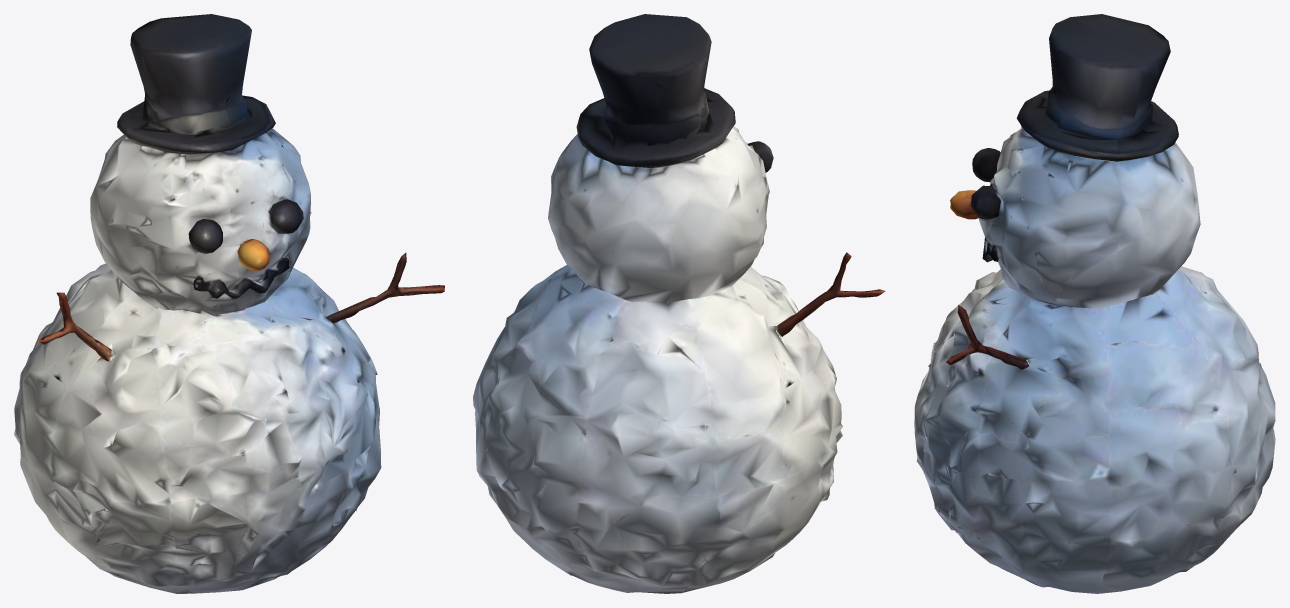
Rendered from snowman_far.glb.
3 renders of one model, left to right at view 1: azimuth 30°, elevation 25°; view 2: azimuth 150°, elevation 25°; view 3: azimuth 270°, elevation 25°, orthographic.
Parts seen in each view (by area): view 1: tripo_part_0, tripo_part_1, tripo_part_2, tripo_part_3, tripo_part_5, tripo_part_4, tripo_part_6; view 2: tripo_part_0, tripo_part_1, tripo_part_2, tripo_part_5; view 3: tripo_part_0, tripo_part_1, tripo_part_2, tripo_part_3, tripo_part_4, tripo_part_6.
Part boxes in pixels (bbox=[...]): tripo_part_0: bbox=[14, 244, 381, 593]; tripo_part_1: bbox=[90, 128, 311, 314]; tripo_part_2: bbox=[117, 14, 275, 154]; tripo_part_3: bbox=[326, 253, 444, 323]; tripo_part_5: bbox=[37, 292, 114, 361]; tripo_part_4: bbox=[188, 219, 222, 253]; tripo_part_6: bbox=[237, 239, 269, 270]; tripo_part_0: bbox=[473, 265, 842, 593]; tripo_part_1: bbox=[548, 126, 769, 302]; tripo_part_2: bbox=[576, 14, 735, 168]; tripo_part_5: bbox=[776, 252, 885, 336]; tripo_part_0: bbox=[914, 266, 1275, 593]; tripo_part_1: bbox=[970, 125, 1200, 308]; tripo_part_2: bbox=[1016, 14, 1178, 161]; tripo_part_3: bbox=[946, 305, 1029, 369]; tripo_part_4: bbox=[972, 148, 1000, 182]; tripo_part_6: bbox=[950, 190, 978, 219].
Bounding box in the file's own units: 0.7079 × 0.9782 × 0.6015.
7 materials, 7 textured.
